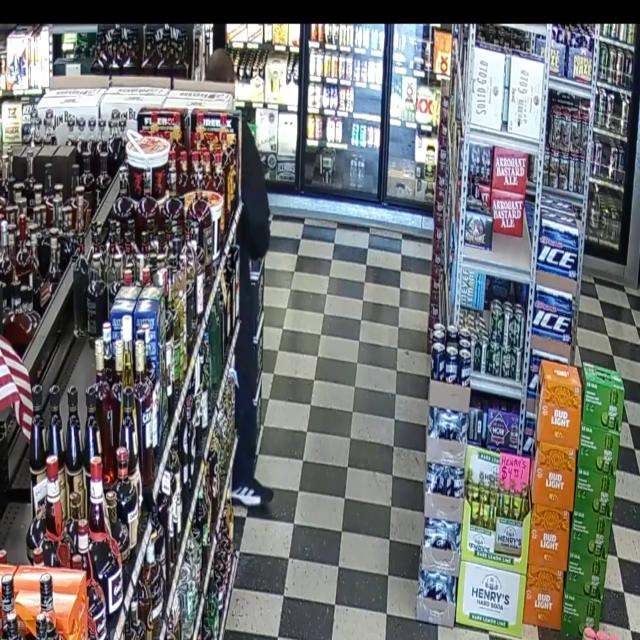normal: (193, 41, 288, 528)
